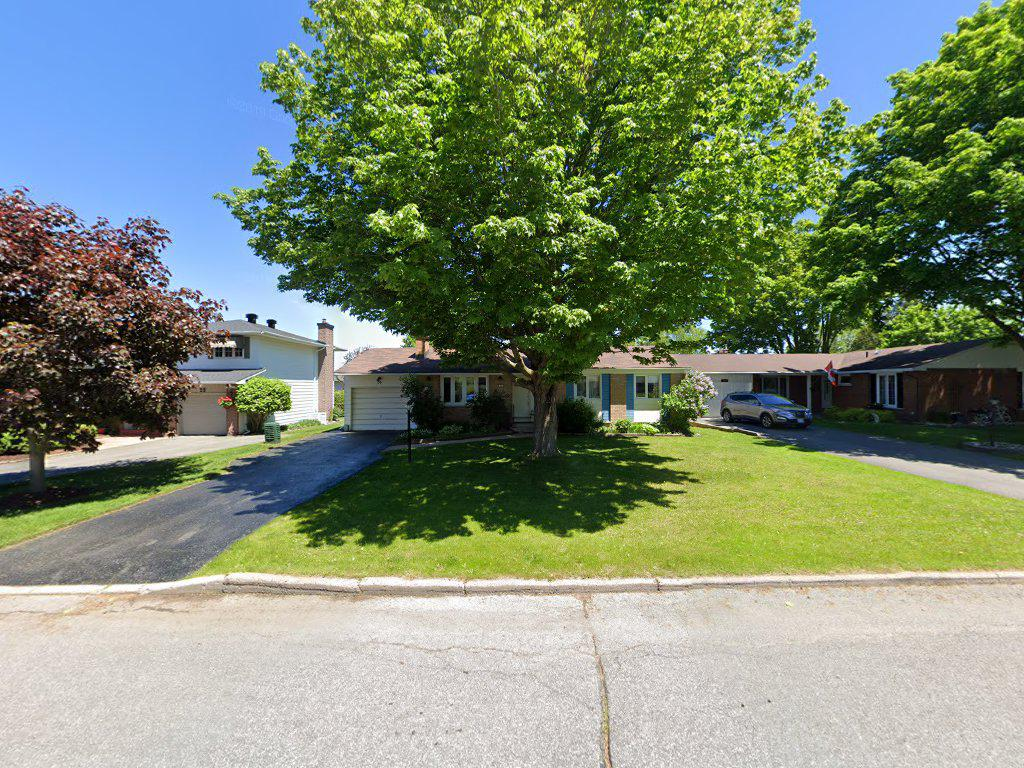trunk: (525, 362, 565, 469), (25, 434, 49, 485)
